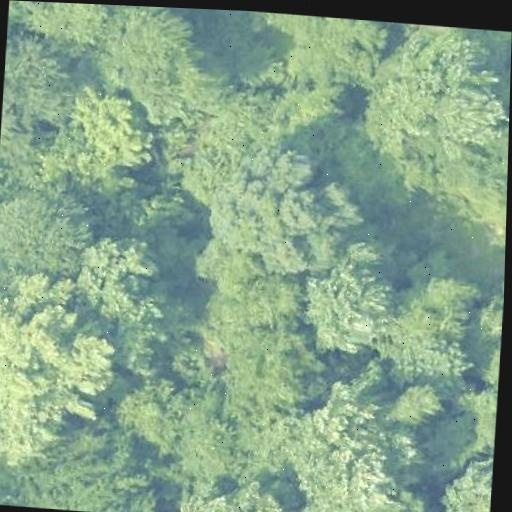tree-top: (352, 19, 512, 204), (0, 261, 120, 468), (209, 139, 371, 280), (283, 372, 429, 512), (198, 263, 320, 420), (79, 4, 218, 127), (359, 265, 490, 388), (294, 239, 407, 359), (21, 427, 175, 512), (42, 81, 161, 189), (0, 179, 96, 306), (226, 69, 352, 161), (69, 228, 173, 326), (285, 14, 388, 106), (1, 23, 66, 124), (153, 472, 305, 512), (122, 371, 195, 443), (435, 444, 493, 512), (36, 2, 111, 47), (7, 0, 39, 27), (416, 507, 490, 512)
